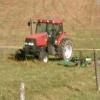Tractor: (14, 12, 80, 72)
